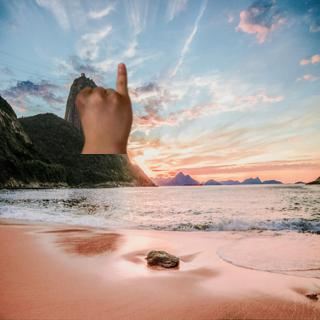FINE: (73, 60, 139, 145)
